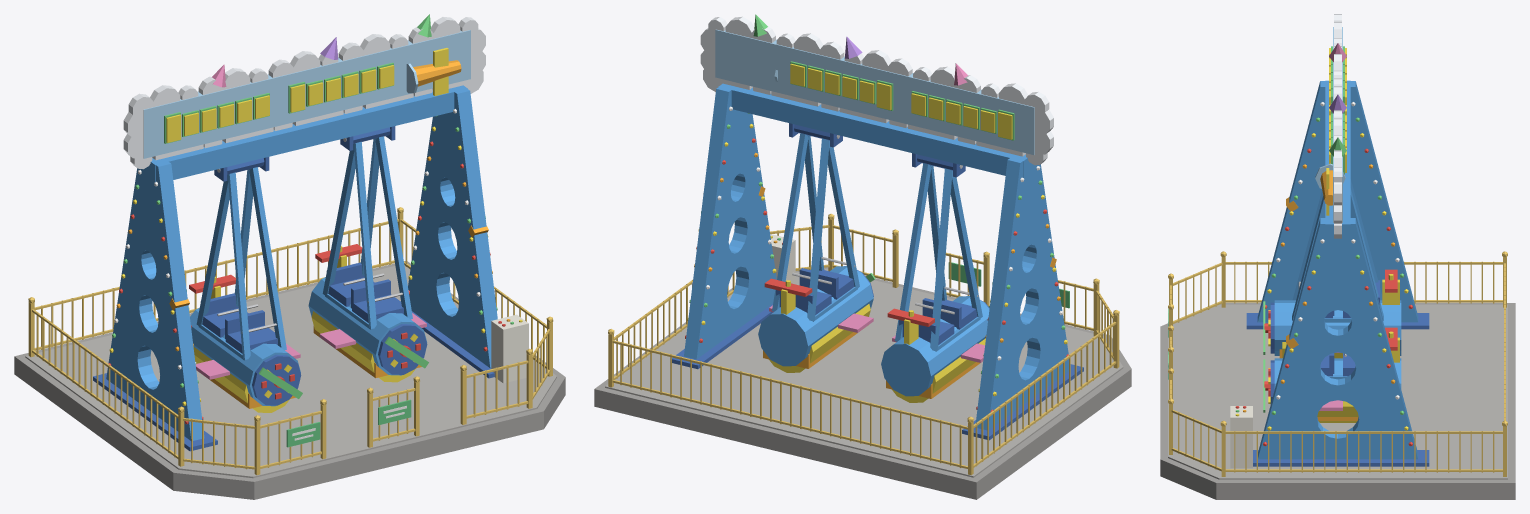
The picture shows the model from 3 angles, left to right: view 1: azimuth 30°, elevation 25°; view 2: azimuth 150°, elevation 25°; view 3: azimuth 270°, elevation 25°; orthographic projection. The views are drawn at different scales.
Visible parts, largest first — view 1: base, swing1, swing0; view 2: base, swing1, swing0; view 3: base, swing0, swing1.
Boxes of the visible parts, bbox=[...] form: base: bbox=[14, 14, 565, 499]; swing1: bbox=[308, 127, 428, 382]; swing0: bbox=[189, 158, 302, 412]; base: bbox=[594, 14, 1131, 499]; swing1: bbox=[758, 124, 875, 372]; swing0: bbox=[881, 154, 989, 402]; base: bbox=[1160, 14, 1515, 499]; swing0: bbox=[1263, 179, 1401, 358]; swing1: bbox=[1263, 327, 1401, 422].
Bounding box in the file's own units: 8.4 × 7.18 × 7.
